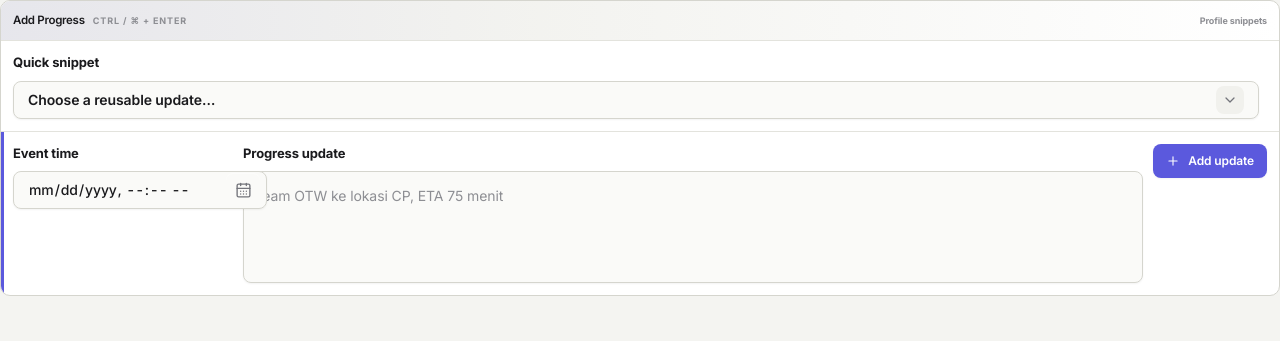
Test: ProgressComposer Operator Preset controls › supports a blank event-time default without inventing a timestamp
Expected: the field labelled "Event time" is empty, [13,171,267,209]
Type "Operator entered text first" into the text box labelled "Progress update".
click(693, 227); type("Operator entered text first")  # box [243,171,1143,283]
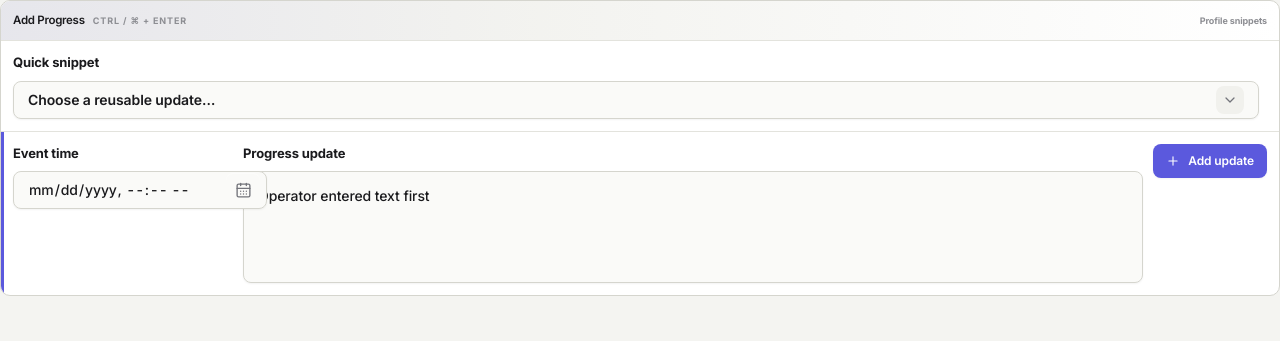
Click the button "Add update".
click(1210, 160)  # box [1153,144,1267,178]
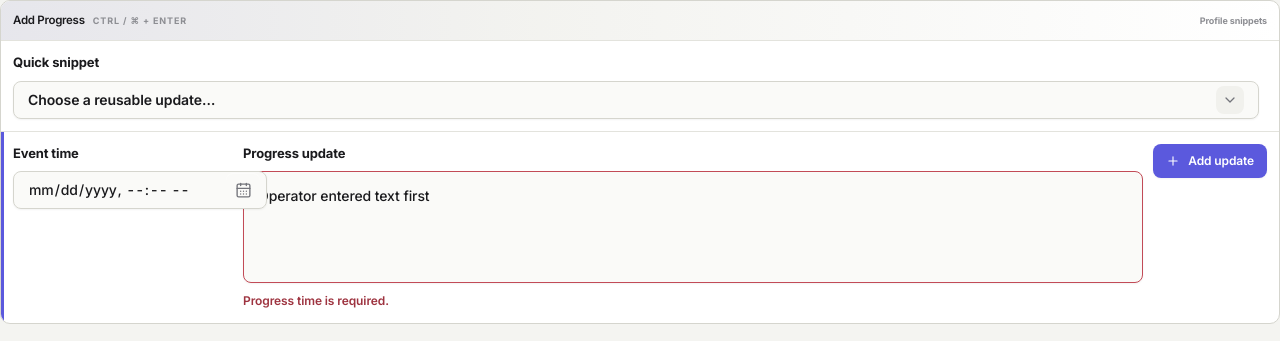
Now the text "Progress time is required." is shown, box [243,293,389,308]
